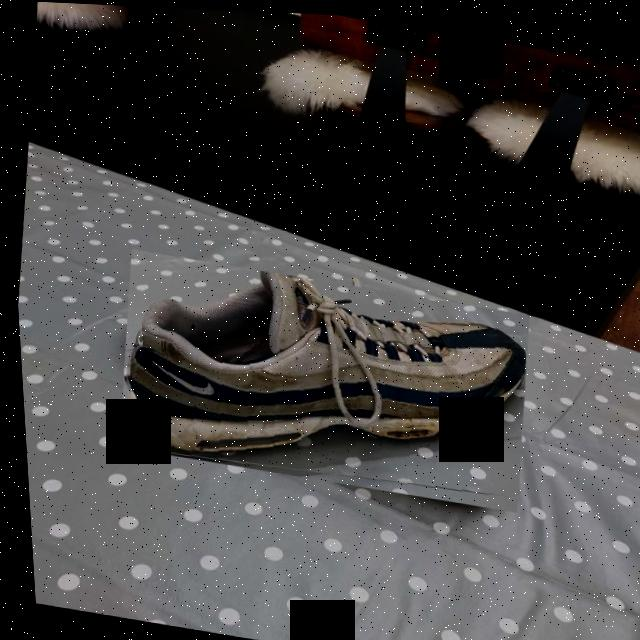shoe: (104, 247, 534, 509)
